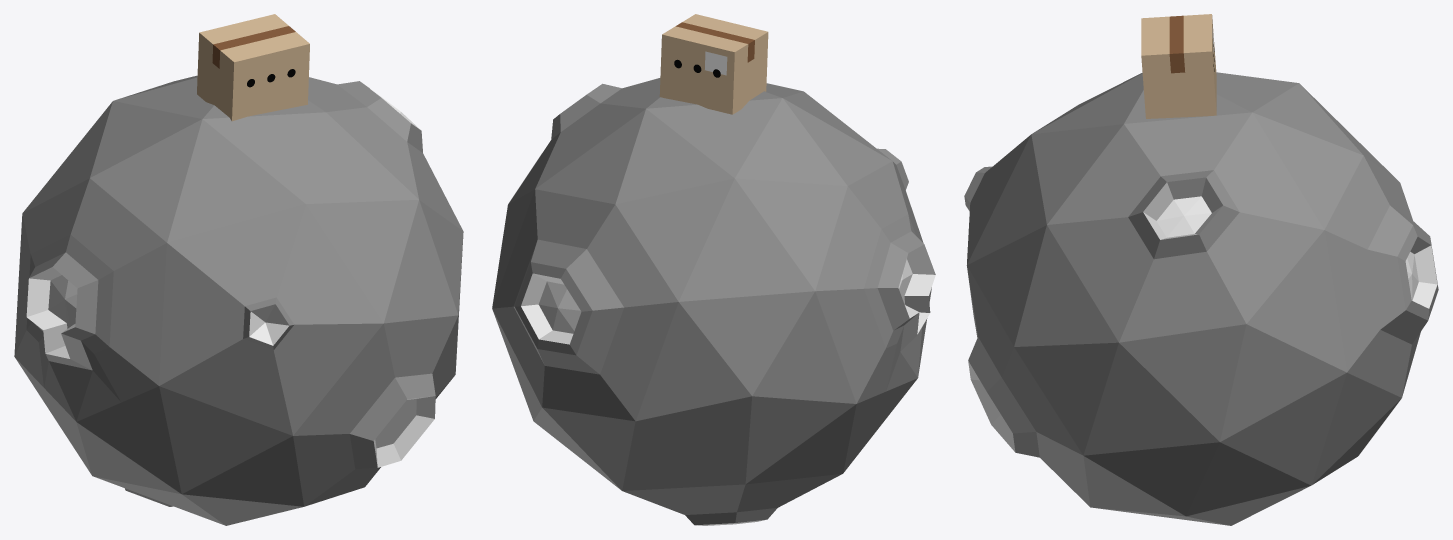
The picture shows the model from 3 angles, left to right: view 1: azimuth 30°, elevation 25°; view 2: azimuth 150°, elevation 25°; view 3: azimuth 270°, elevation 25°; orthographic projection. The views are drawn at different scales.
Parts seen in each view (by area): view 1: moon, package-box; view 2: moon, package-box; view 3: moon, package-box.
Boxes of the visible parts, x1=… form: moon: x1=14, y1=75, x2=463, y2=525; package-box: x1=197, y1=14, x2=309, y2=121; moon: x1=492, y1=78, x2=935, y2=525; package-box: x1=659, y1=14, x2=768, y2=114; moon: x1=964, y1=72, x2=1438, y2=525; package-box: x1=1141, y1=14, x2=1216, y2=118.
Bounding box in the file's own units: 9.98 × 11.23 × 10.03.
9 materials, 1 textured.
